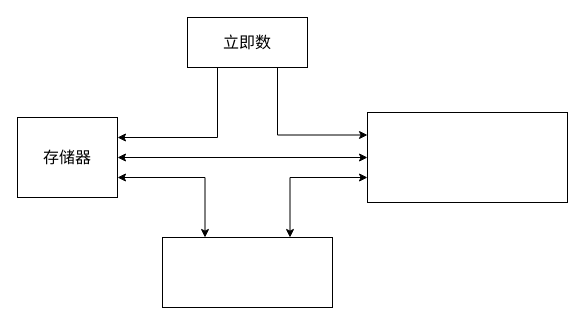
The diagram is 585 pixels wide and 325 high, and some of its shapes have lost their labels. Each missing label, with the centre of its shape:
"段寄存器 CS DS ES SS" belongs at (247,272).
"通用存储器 AX BX CX DX BP SP SI DI" belongs at (467,157).
